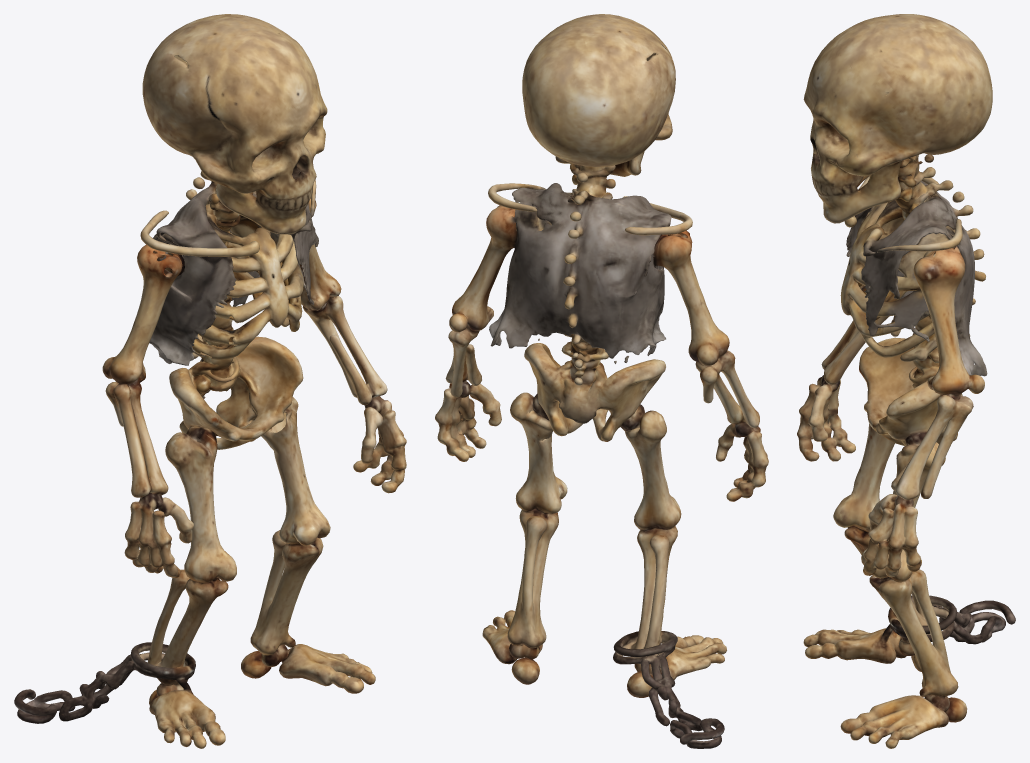
File: skeleton.glb
3 views of the same model, side by side, from view 1: azimuth 30°, elevation 25°; view 2: azimuth 150°, elevation 25°; view 3: azimuth 270°, elevation 25° (orthographic). The views are drawn at different scales.
Bounding box in the file's own units: 0.455 × 0.8803 × 0.2576.
1 material, 1 textured.
